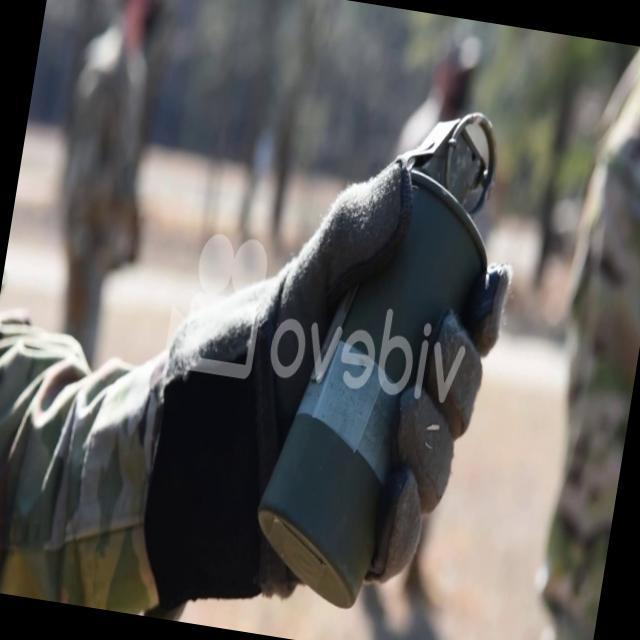grenade: (246, 92, 522, 628)
